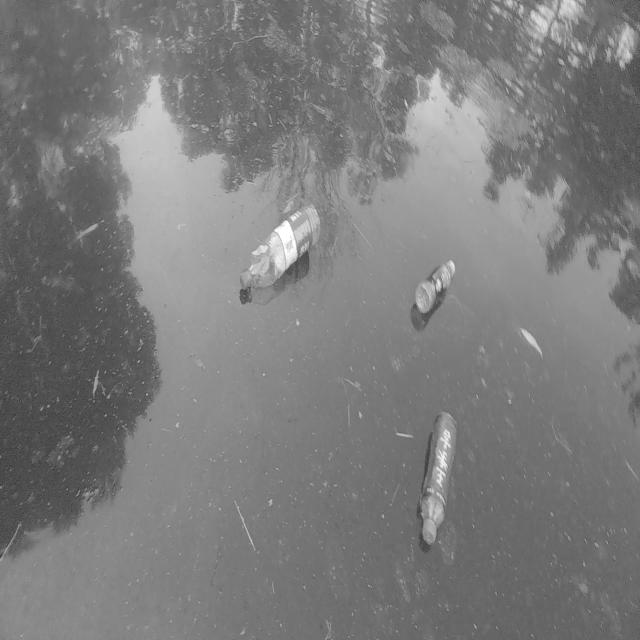bottle: (215, 170, 332, 320), (392, 380, 475, 561), (398, 244, 462, 330)
